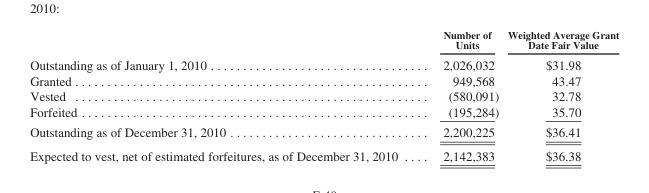table: (29, 28, 618, 162)
table column: (29, 28, 419, 162), (502, 28, 618, 162), (419, 28, 502, 162)
table column header: (29, 28, 618, 54)
table row: (29, 28, 618, 54), (29, 121, 618, 143), (29, 143, 618, 162), (29, 54, 618, 72), (29, 103, 618, 121), (29, 72, 618, 88), (29, 88, 618, 103)
